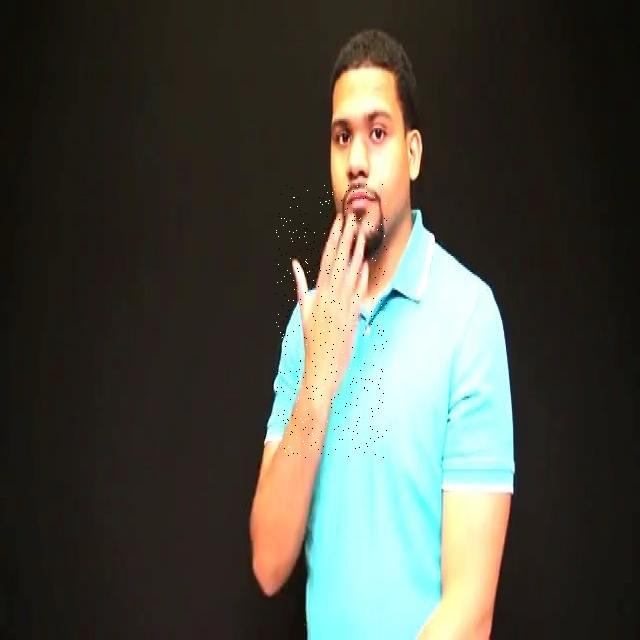sugar: (276, 184, 387, 458)
